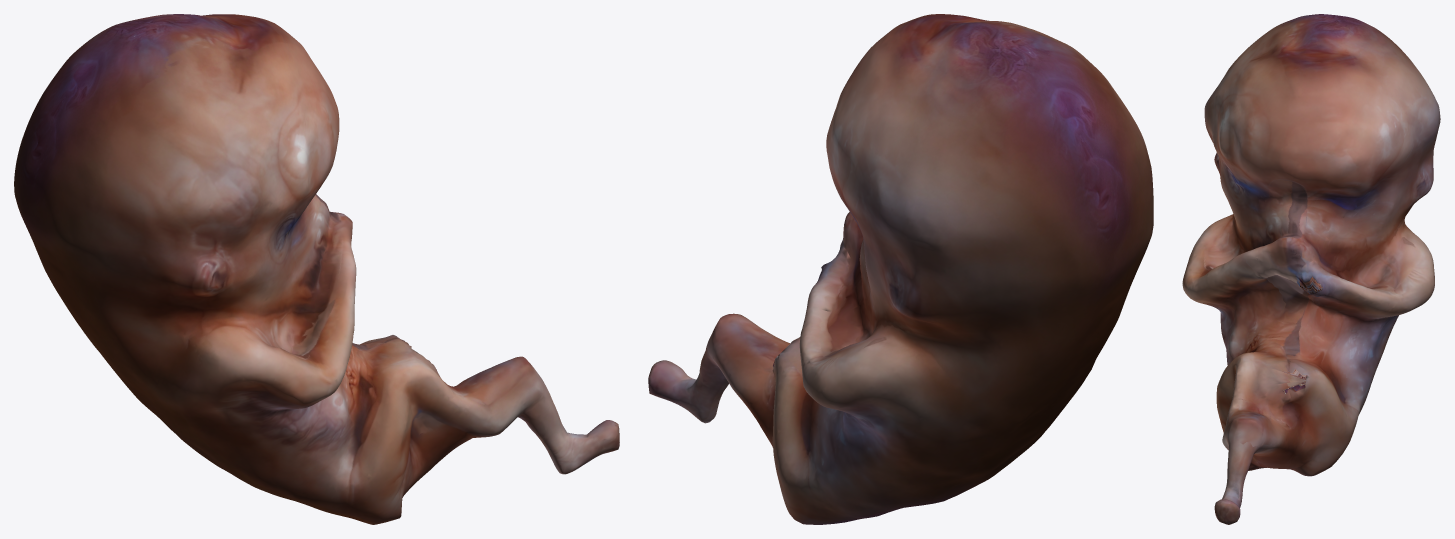
The model's file is skibidi.fbx.
3 renders of one model, left to right at view 1: azimuth 30°, elevation 25°; view 2: azimuth 150°, elevation 25°; view 3: azimuth 270°, elevation 25°, orthographic. The views are drawn at different scales.
Parts seen in each view (by area): view 1: Mesh_0; view 2: Mesh_0; view 3: Mesh_0.
Part boxes in pixels (bbox=[...]): Mesh_0: bbox=[14, 14, 619, 524]; Mesh_0: bbox=[648, 14, 1153, 524]; Mesh_0: bbox=[1182, 14, 1440, 524].
Bounding box in the file's own units: 1292 × 1218 × 742.
